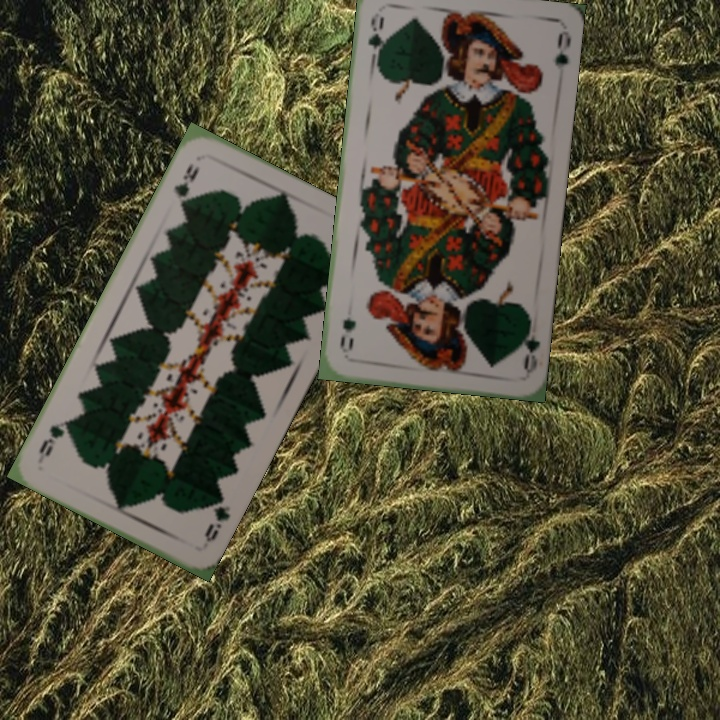G9: (200, 492, 233, 545), (170, 159, 203, 210)
GO: (514, 315, 543, 375), (363, 9, 387, 67)
